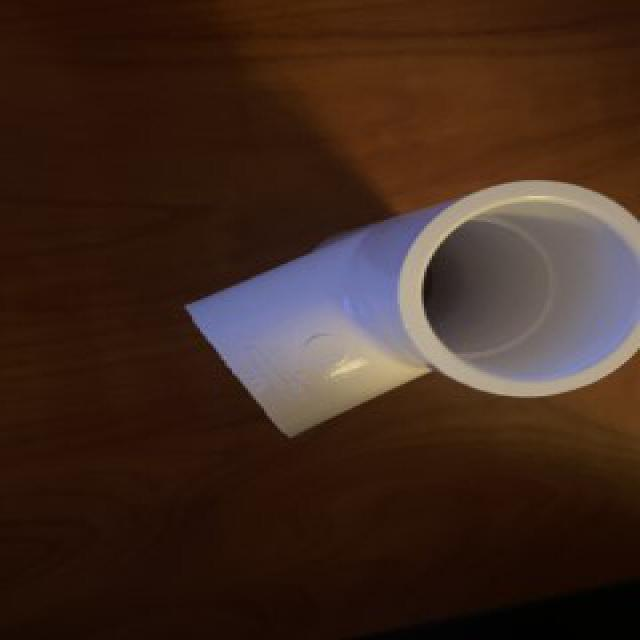T Joint: (185, 181, 640, 440)
